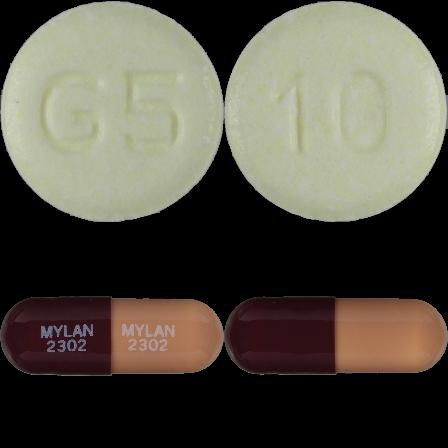49349-821: (0, 0, 224, 224)
